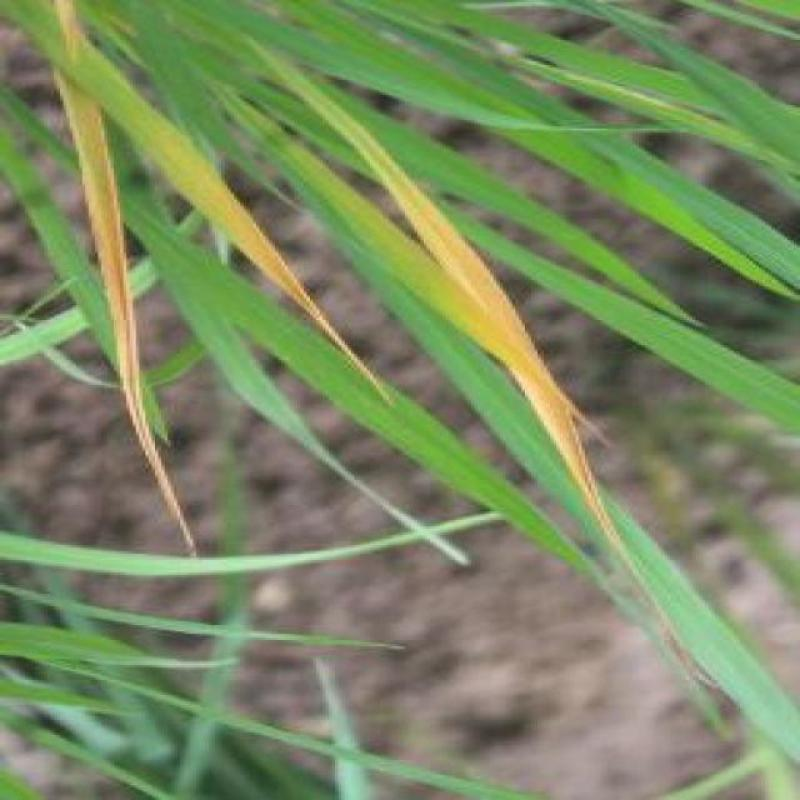Rice Tungro: (40, 105, 191, 533), (453, 228, 596, 528), (206, 183, 390, 395)
